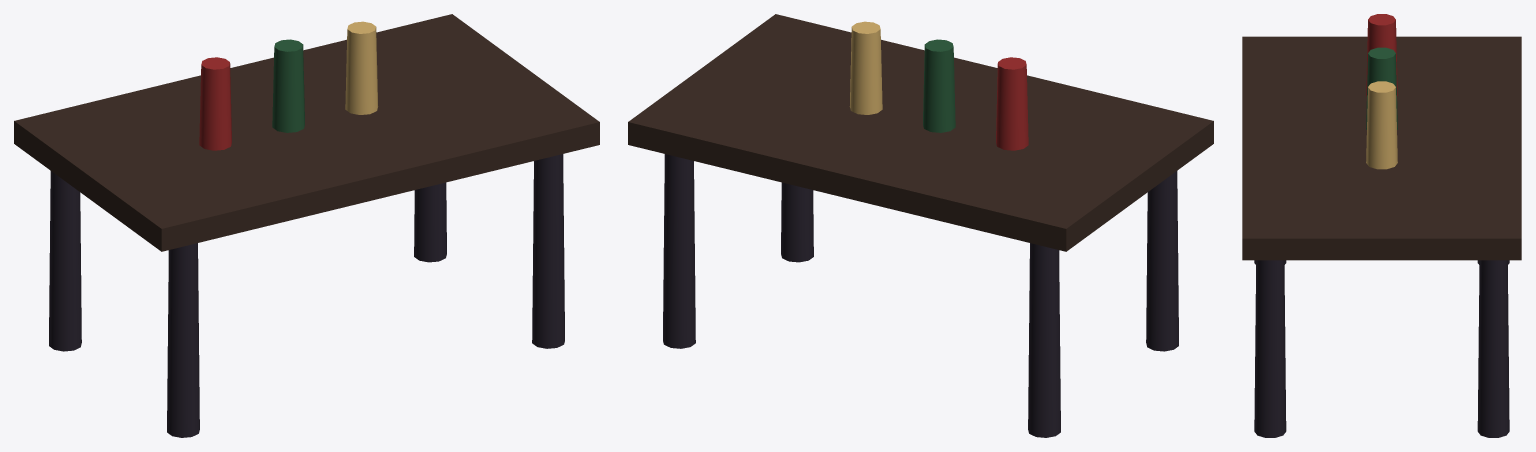
Rendered from LoungeTable.glb.
The picture shows the model from 3 angles, left to right: view 1: azimuth 30°, elevation 25°; view 2: azimuth 150°, elevation 25°; view 3: azimuth 270°, elevation 25°; orthographic projection. The views are drawn at different scales.
Parts seen in each view (by area): view 1: LoungeTable; view 2: LoungeTable; view 3: LoungeTable.
Part boxes in pixels (x1,y1,x2,y2): LoungeTable: (14, 14, 599, 437); LoungeTable: (628, 14, 1213, 437); LoungeTable: (1242, 14, 1521, 437).
Size of the model in its own units: 1.2 by 0.79 by 0.7.
